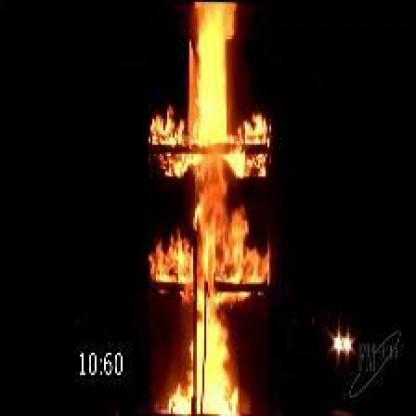fire: (143, 3, 275, 412)
other: (324, 324, 356, 362)
